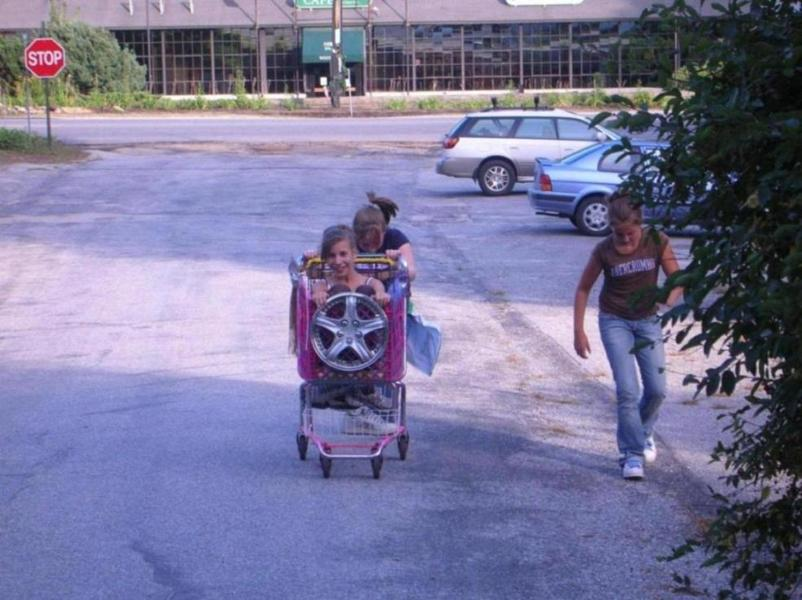person: (306, 192, 415, 388)
